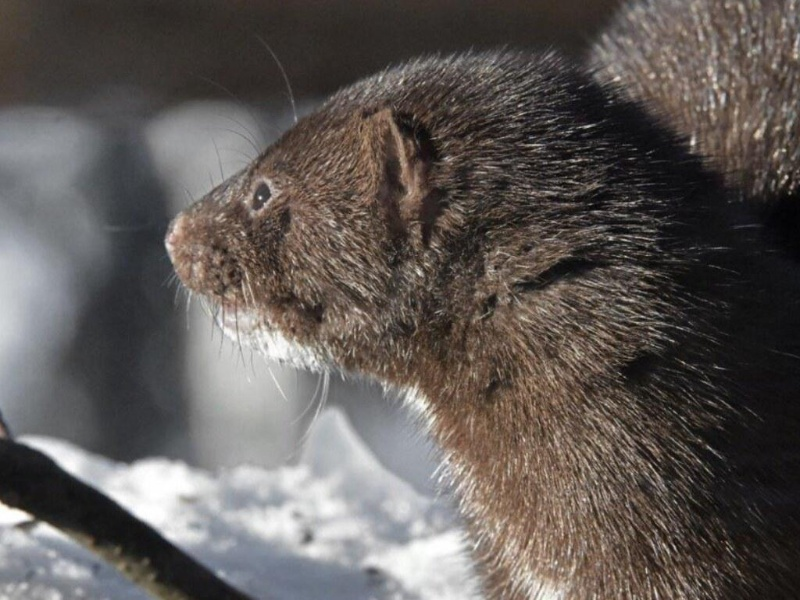minkish: (162, 43, 782, 586)
